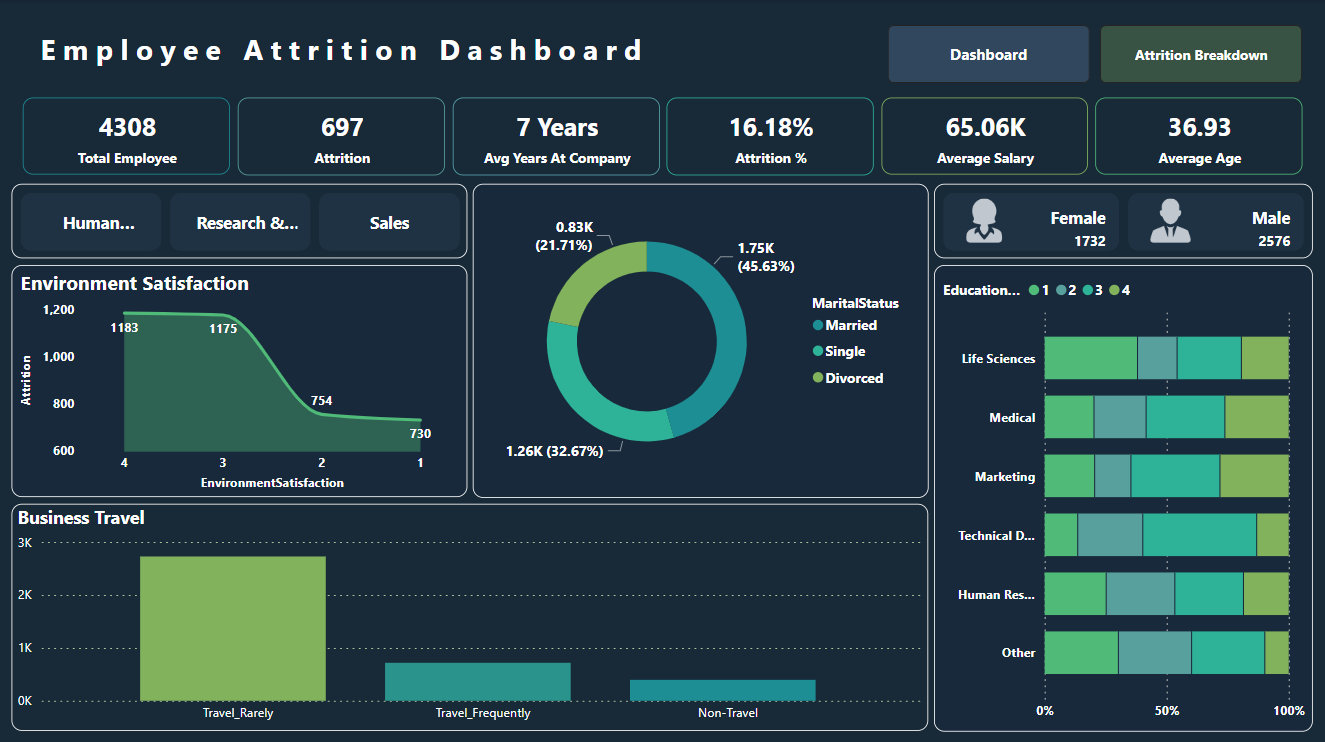

This screenshot's page, from the dashboard's own definition file:
{"tool":"powerbi","page":{"name":"Attrition Breakdown","canvas":[1280,720],"ordinal":1},"visuals":[{"type":"image","box":[1103.9,187,54.3,51.9],"z":0},{"type":"image","box":[924.1,187,54.3,51.9],"z":1000},{"type":"advancedSlicerVisual","fields":{"Values":["Attrition data.Gender"]},"box":[902.4,177.3,365.6,72.4],"z":2000},{"type":"card","fields":{"Values":["Attrition data.Employee_Count"]},"box":[22.9,94.4,200.3,74.8],"z":7000},{"type":"card","fields":{"Values":["Attrition data.Employee_Attrition"]},"box":[230.4,93.9,200,75],"z":8000},{"type":"card","fields":{"Values":["Attrition data.Years_With_Text"]},"box":[437.5,94.1,200,75],"z":9000},{"type":"card","fields":{"Values":["Attrition data.Attrition%"]},"box":[644.7,94.2,200,75],"z":10000},{"type":"card","fields":{"Values":["Attrition data.Average_Salary"]},"box":[851.8,94.3,199.1,74.8],"z":11000},{"type":"card","fields":{"Values":["Attrition data.Average_Age"]},"box":[1058,94.2,200.3,74.8],"z":12000},{"type":"areaChart","title":"Environment Satisfaction","fields":{"Y":["CountNonNull(Attrition data.Attrition)"],"Category":["Attrition data.EnvironmentSatisfaction"]},"box":[12.1,255.8,440,224.4],"z":13000},{"type":"donutChart","fields":{"Category":["Attrition data.MaritalStatus"],"Y":["CountNonNull(Attrition data.Attrition)"]},"box":[457.2,177.3,440.4,302.8],"z":14000},{"type":"clusteredColumnChart","title":"Business Travel","fields":{"Category":["Attrition data.BusinessTravel"],"Y":["CountNonNull(Attrition data.Attrition)"]},"box":[12.1,486.2,885,219.6],"z":15000},{"type":"hundredPercentStackedBarChart","fields":{"Y":["Attrition data.Employee_Attrition"],"Series":["Attrition data.JobSatisfaction"],"Category":["Attrition data.EducationField"]},"box":[902.4,255.8,365.6,450],"z":16000},{"type":"advancedSlicerVisual","fields":{"Values":["Attrition data.Department"]},"box":[12.1,177.3,440.4,72.4],"z":17000},{"type":"textbox","box":[15.7,24.1,628.6,56.7],"z":18000},{"type":"pageNavigator","box":[857.8,24.1,400.5,56.7],"z":19000}]}

Visuals, with their boxes in screenshot pixels (x1, y1, x2, y2), scaled from the page's 1280x720 canvas onto the 1325x742 screenshot:
image: <region>1143, 193, 1199, 246</region>
image: <region>957, 193, 1013, 246</region>
advancedSlicerVisual - Attrition data.Gender: <region>934, 183, 1313, 257</region>
card - Attrition data.Employee_Count: <region>24, 97, 231, 174</region>
card - Attrition data.Employee_Attrition: <region>238, 97, 446, 174</region>
card - Attrition data.Years_With_Text: <region>453, 97, 660, 174</region>
card - Attrition data.Attrition%: <region>667, 97, 874, 174</region>
card - Attrition data.Average_Salary: <region>882, 97, 1088, 174</region>
card - Attrition data.Average_Age: <region>1095, 97, 1303, 174</region>
"Environment Satisfaction" areaChart: <region>13, 264, 468, 495</region>
donutChart - Attrition data.MaritalStatus x CountNonNull(Attrition data.Attrition): <region>473, 183, 929, 495</region>
"Business Travel" clusteredColumnChart: <region>13, 501, 929, 727</region>
hundredPercentStackedBarChart - Attrition data.Employee_Attrition x Attrition data.JobSatisfaction: <region>934, 264, 1313, 727</region>
advancedSlicerVisual - Attrition data.Department: <region>13, 183, 468, 257</region>
textbox: <region>16, 25, 667, 83</region>
pageNavigator: <region>888, 25, 1303, 83</region>
